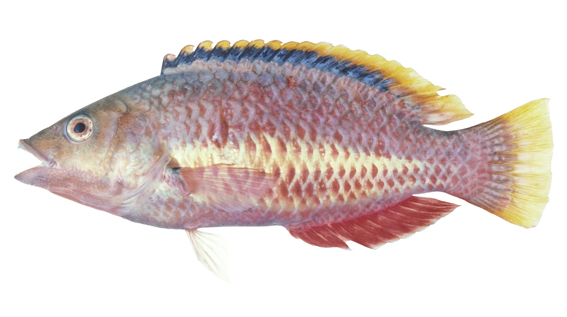fish: (13, 37, 554, 284)
